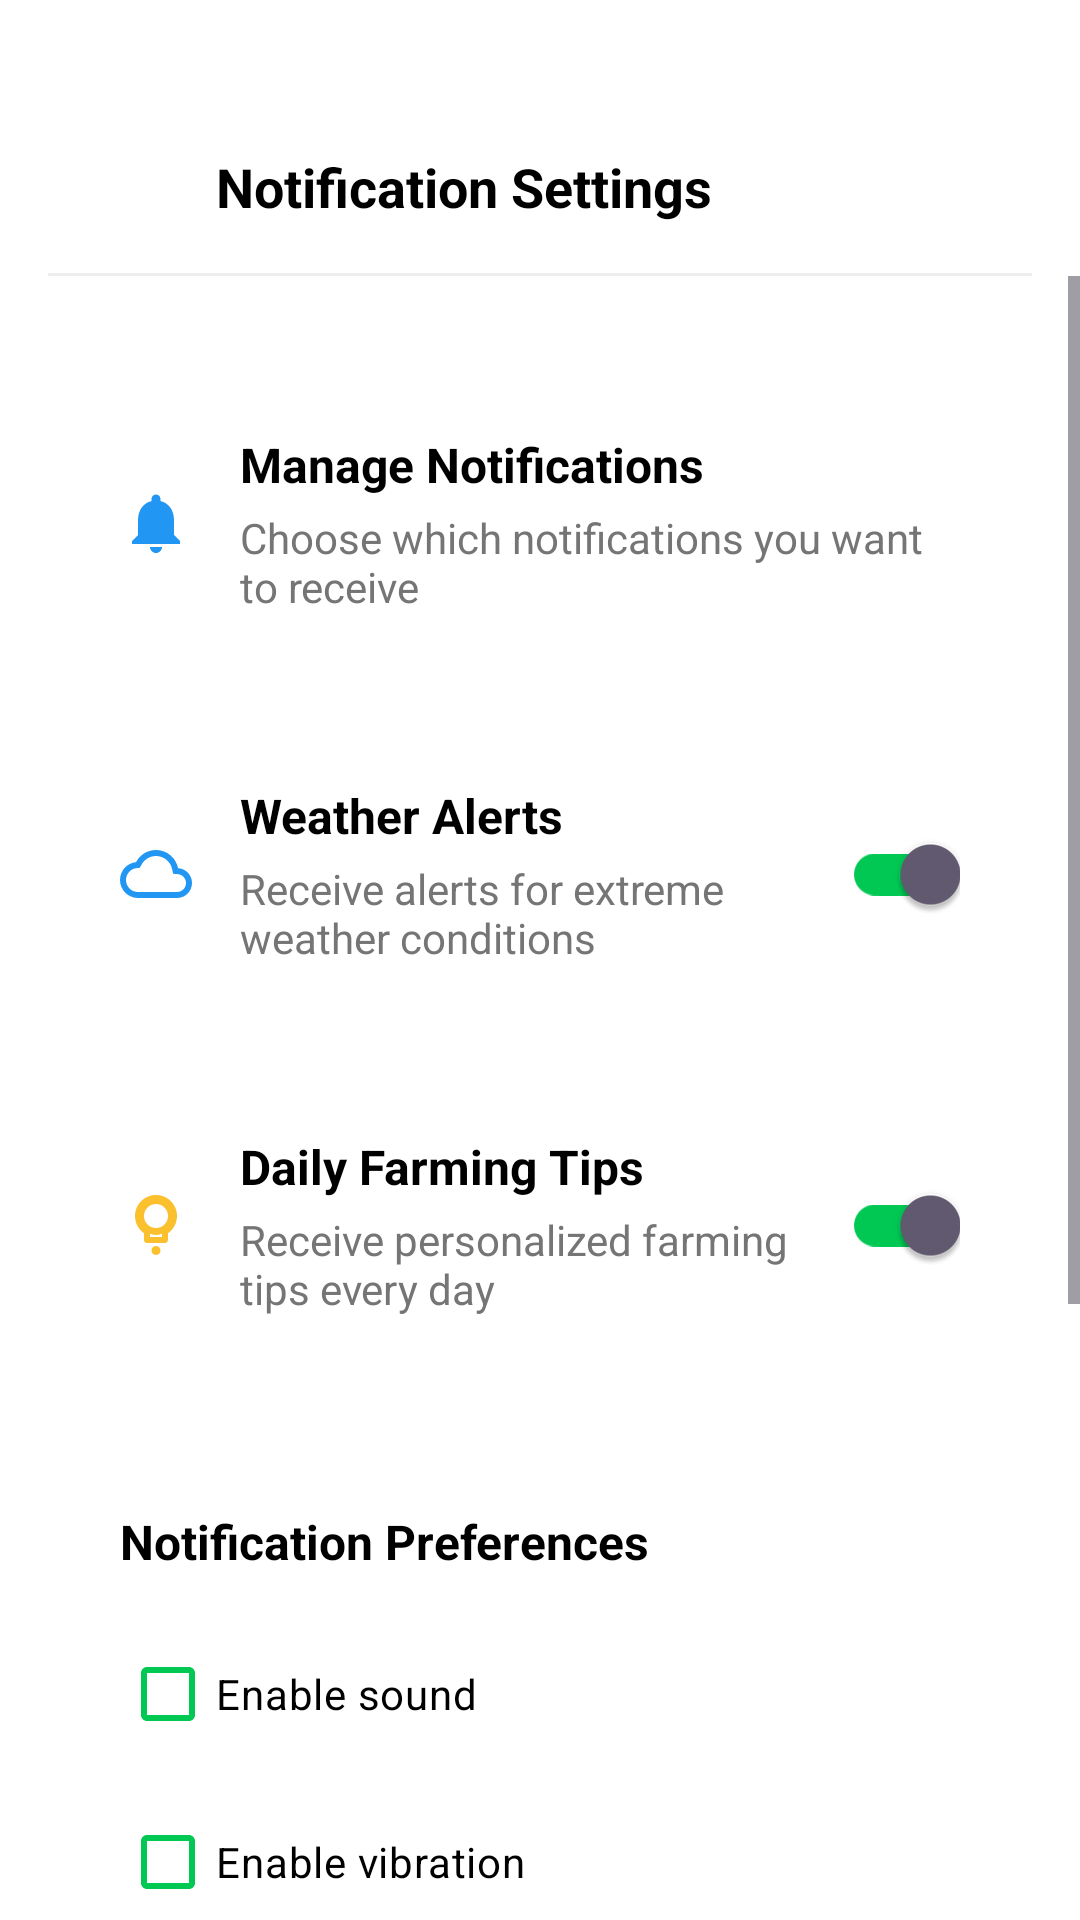

Named icons in this screenshot (1080w x 1920h) and their bounding boxes, (x1, y1, x2, y2):
bell: (132, 494, 180, 553)
lightbulb: (135, 1195, 177, 1255)
